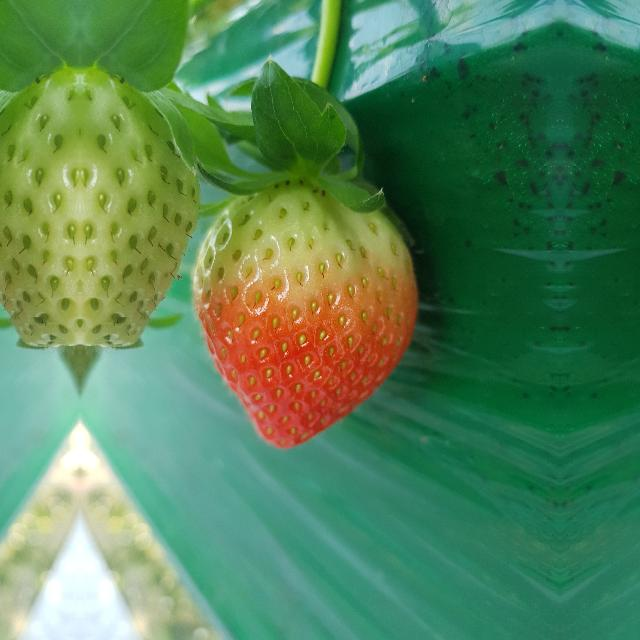Health_25: (81, 48, 203, 352), (0, 47, 79, 352)
Health_75: (190, 180, 418, 450)
